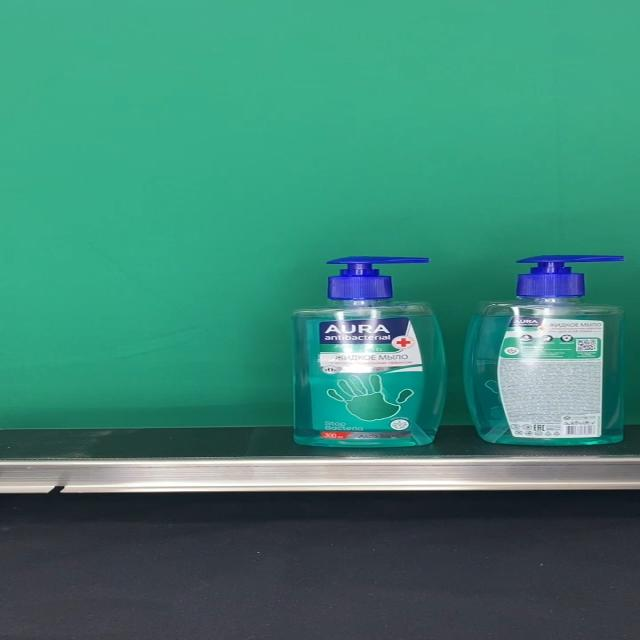Bottle: (462, 254, 625, 445), (290, 256, 447, 448)
Cap: (515, 254, 624, 299), (325, 256, 430, 300)
